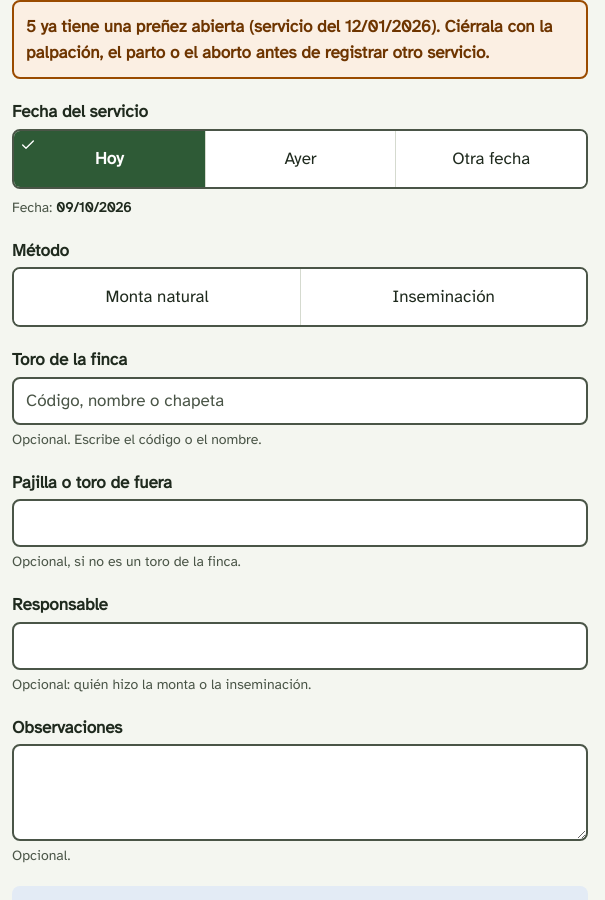
Test: ServiceForm (REP-01) › con una preñez abierta, el error ofrece ir a cerrarla (CA3)
Expected: the text "ya tiene una preñez abierta" is shown, [36,16,345,37]
Click the radio button labelled "Inseminación".
click(443, 297)  # box [300,269,586,325]
(page scrolled)
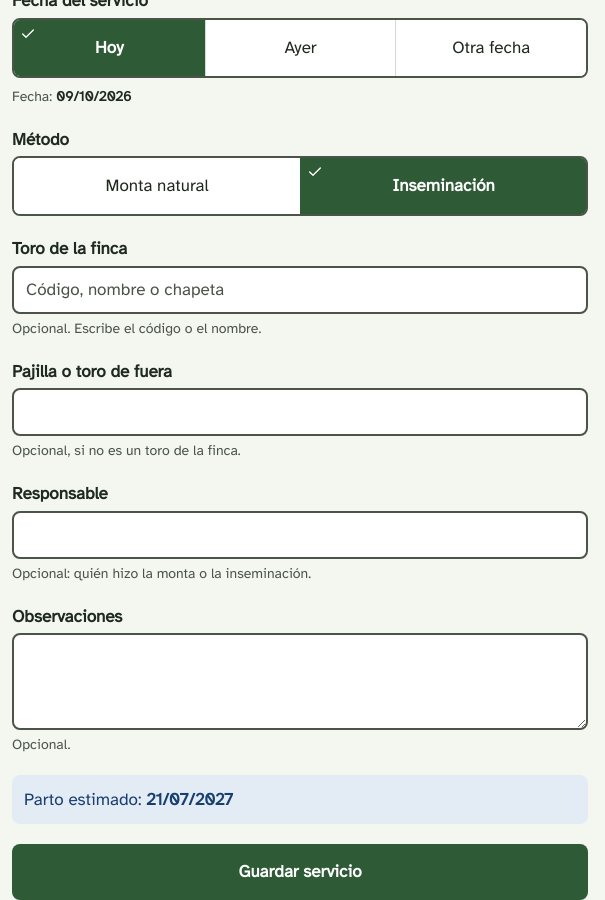
Click the button "Guardar servicio".
click(300, 872)  # box [12,844,588,899]
(page scrolled)
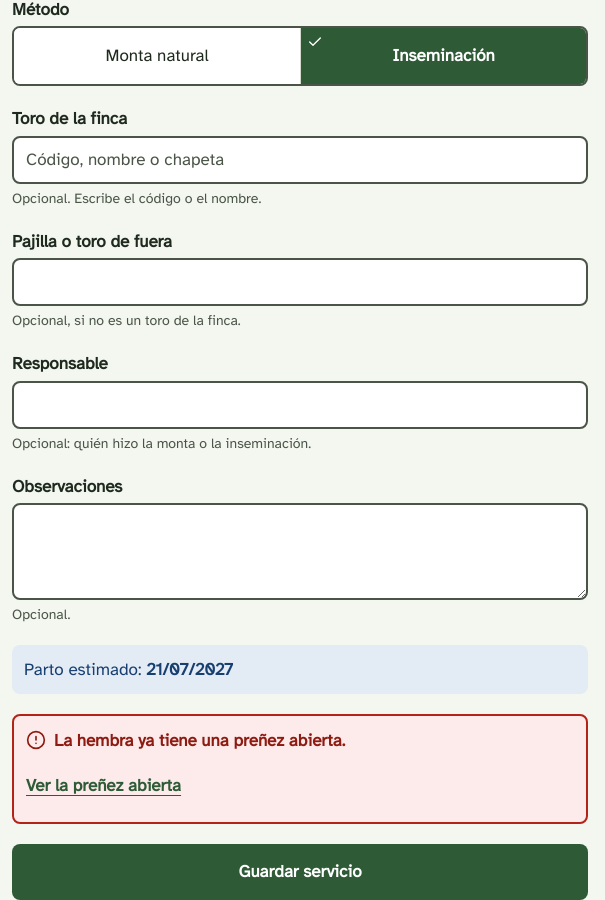
Expected: the link "Ver la preñez abierta" is shown, [26,775,181,796]
